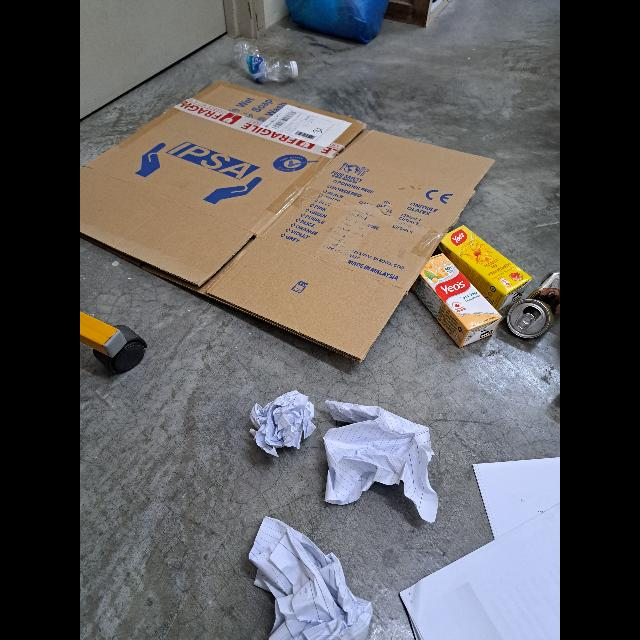aba de lata: (515, 314, 535, 331)
caixinha: (413, 252, 502, 348), (438, 225, 532, 313)
garrafa plástica: (232, 41, 292, 83)
lata: (506, 270, 560, 338)
papel: (400, 502, 560, 640), (322, 398, 438, 524), (472, 456, 560, 538), (250, 389, 316, 456)
papelão: (80, 82, 496, 362)
sacola plástica: (289, 0, 393, 46)
tampa plástica: (290, 61, 298, 78)
